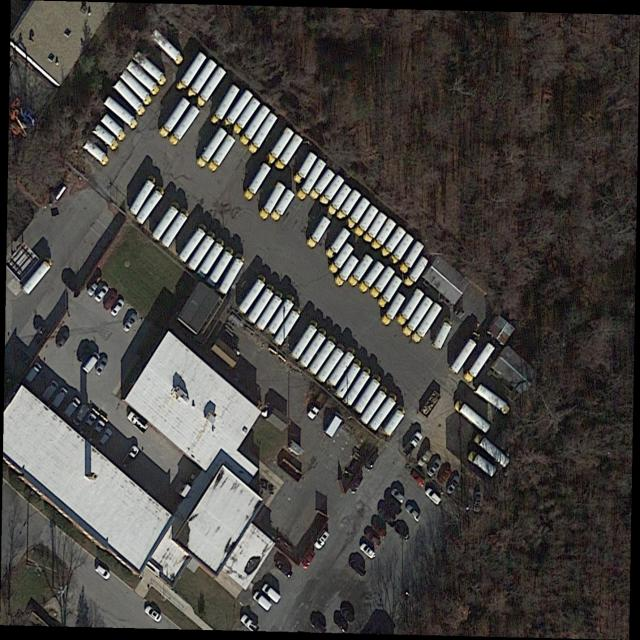large-vehicle: (21, 255, 55, 297), (168, 105, 201, 147), (464, 342, 496, 384), (450, 330, 481, 373), (176, 50, 207, 93), (195, 66, 226, 108), (149, 29, 184, 66), (134, 185, 166, 225), (316, 343, 346, 385), (187, 58, 217, 100), (239, 105, 270, 145), (159, 98, 190, 138), (327, 348, 357, 389), (197, 127, 227, 168), (133, 51, 168, 86), (455, 400, 492, 433), (297, 158, 326, 200), (412, 302, 441, 344), (223, 90, 254, 129), (290, 321, 320, 361), (402, 297, 432, 337), (118, 70, 153, 104), (274, 307, 303, 348), (211, 85, 240, 126), (474, 434, 510, 467), (113, 80, 146, 116), (474, 383, 512, 414), (177, 224, 207, 263), (249, 113, 278, 153), (465, 447, 499, 481), (207, 246, 234, 288), (238, 276, 267, 315), (247, 285, 276, 324), (126, 60, 159, 94), (129, 176, 157, 216), (256, 291, 284, 331), (309, 335, 337, 375), (335, 359, 363, 399), (300, 328, 328, 368), (198, 238, 225, 279), (152, 202, 180, 241), (188, 232, 216, 271), (104, 95, 137, 128), (232, 98, 261, 135), (219, 254, 245, 295), (266, 127, 294, 165), (243, 163, 271, 201), (354, 375, 381, 414), (162, 208, 189, 247), (259, 182, 286, 221), (369, 394, 398, 430), (275, 134, 303, 171), (362, 386, 389, 424), (345, 367, 371, 406), (397, 289, 425, 325), (268, 297, 295, 334), (209, 135, 236, 172), (326, 184, 352, 218), (369, 266, 395, 300), (381, 293, 406, 327), (348, 254, 373, 288), (378, 276, 403, 309), (399, 241, 424, 274), (293, 151, 317, 185), (390, 233, 414, 267), (381, 227, 407, 258), (329, 243, 355, 274), (359, 262, 385, 293), (326, 228, 351, 260), (335, 255, 360, 287), (320, 174, 345, 206), (404, 256, 429, 288), (347, 198, 371, 231), (337, 189, 361, 222), (354, 205, 378, 238), (310, 169, 335, 200), (371, 219, 395, 251), (271, 189, 294, 222), (363, 212, 387, 243), (308, 216, 331, 248), (101, 114, 127, 142), (83, 140, 112, 165), (92, 125, 119, 151), (383, 407, 407, 436), (125, 408, 150, 435), (401, 430, 424, 459), (307, 392, 329, 422), (433, 318, 453, 351)
small-vehicle: (259, 580, 282, 606), (274, 557, 296, 582), (119, 444, 140, 469), (252, 589, 273, 612), (81, 351, 101, 375), (40, 378, 60, 402), (72, 402, 91, 427), (62, 396, 82, 419), (23, 361, 43, 384), (347, 472, 365, 497), (142, 603, 163, 624), (312, 528, 331, 551), (78, 412, 97, 435), (50, 386, 69, 409), (369, 519, 389, 540), (404, 503, 423, 525), (348, 557, 368, 577), (409, 468, 428, 489), (362, 451, 380, 473), (94, 562, 113, 582), (359, 541, 378, 561), (388, 485, 407, 505), (425, 485, 443, 506), (299, 549, 316, 571), (103, 290, 119, 313), (393, 522, 411, 542), (378, 506, 395, 526), (97, 427, 114, 447), (426, 457, 442, 478), (93, 283, 109, 304), (447, 473, 462, 495), (364, 531, 382, 549), (340, 606, 356, 626), (417, 448, 433, 468), (77, 345, 94, 363), (437, 466, 451, 487), (123, 312, 137, 333), (110, 298, 125, 317), (55, 331, 70, 350), (95, 355, 108, 376), (86, 281, 100, 298), (472, 491, 481, 513)
